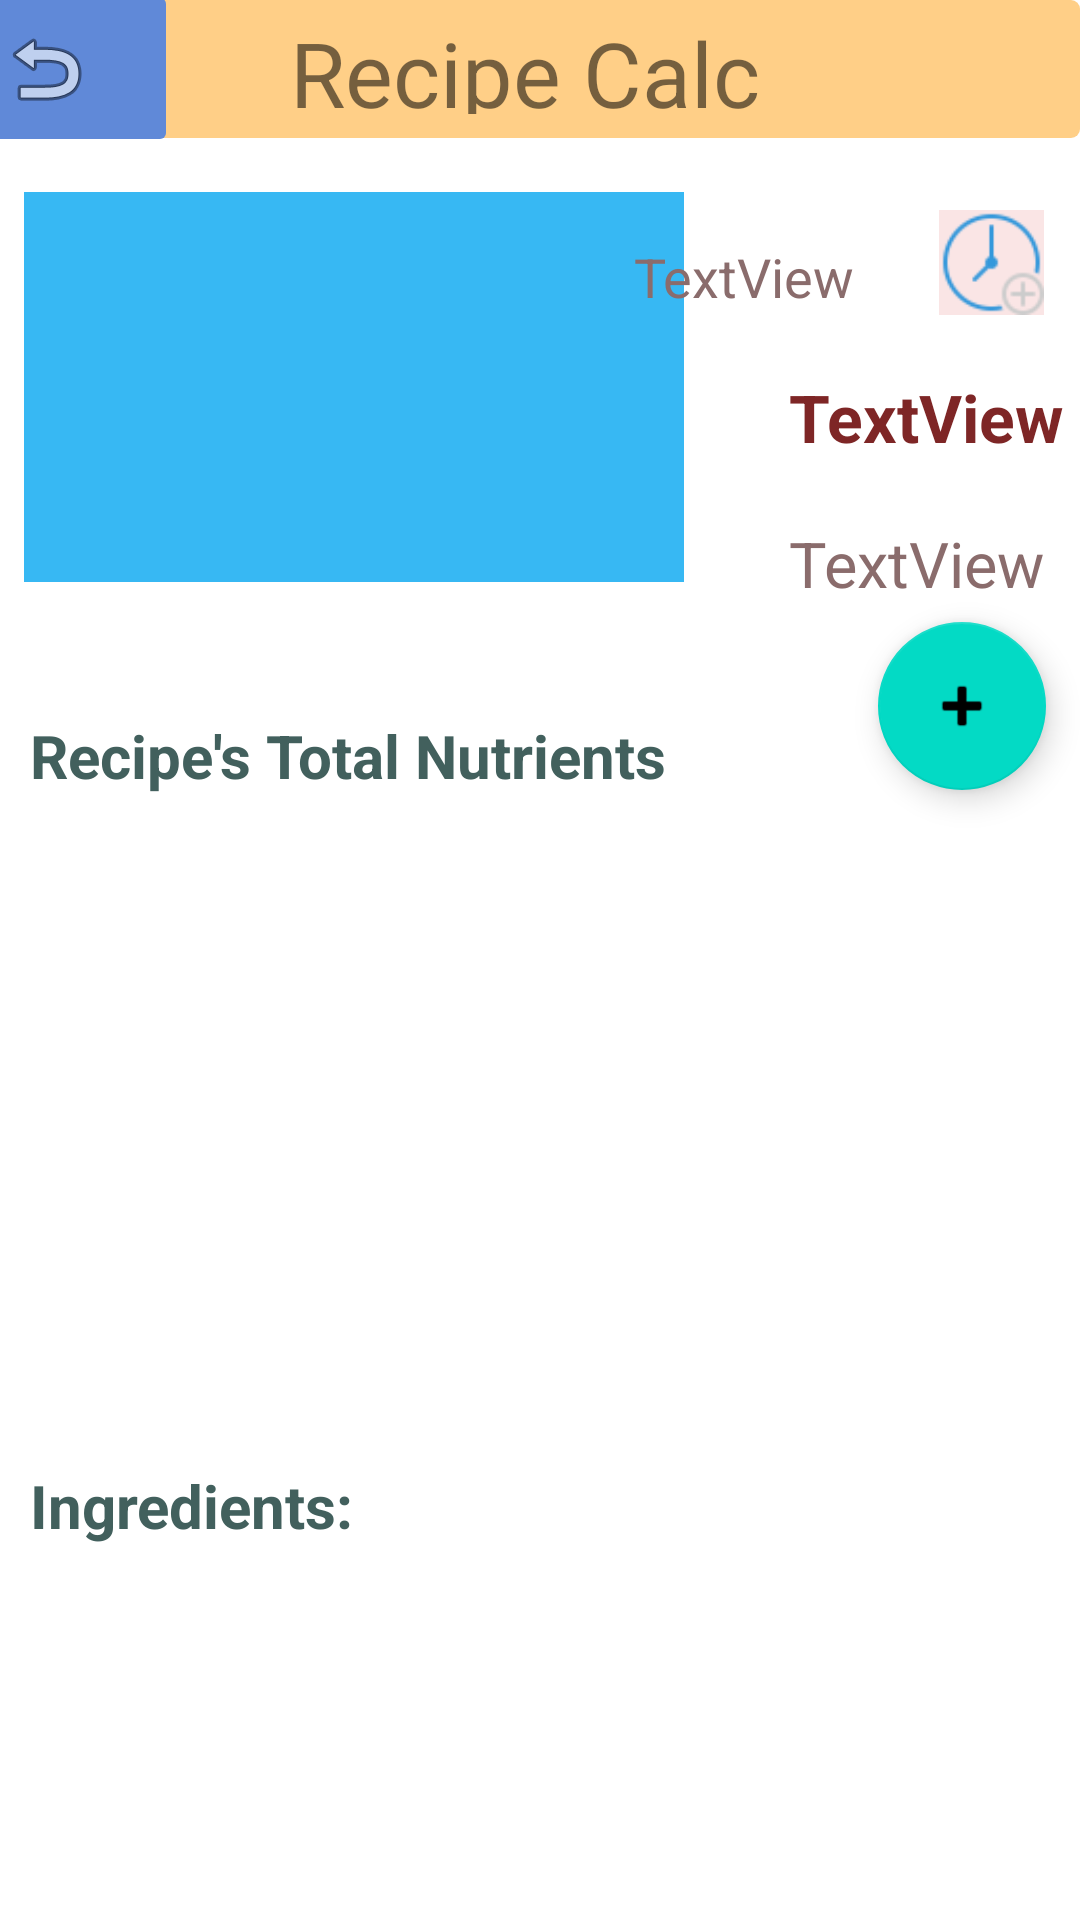

Icons on this 1080x1920 Android screen, each with the point to tap as (x=x, y=y):
add: (x=962, y=706)
time: (x=991, y=262)
